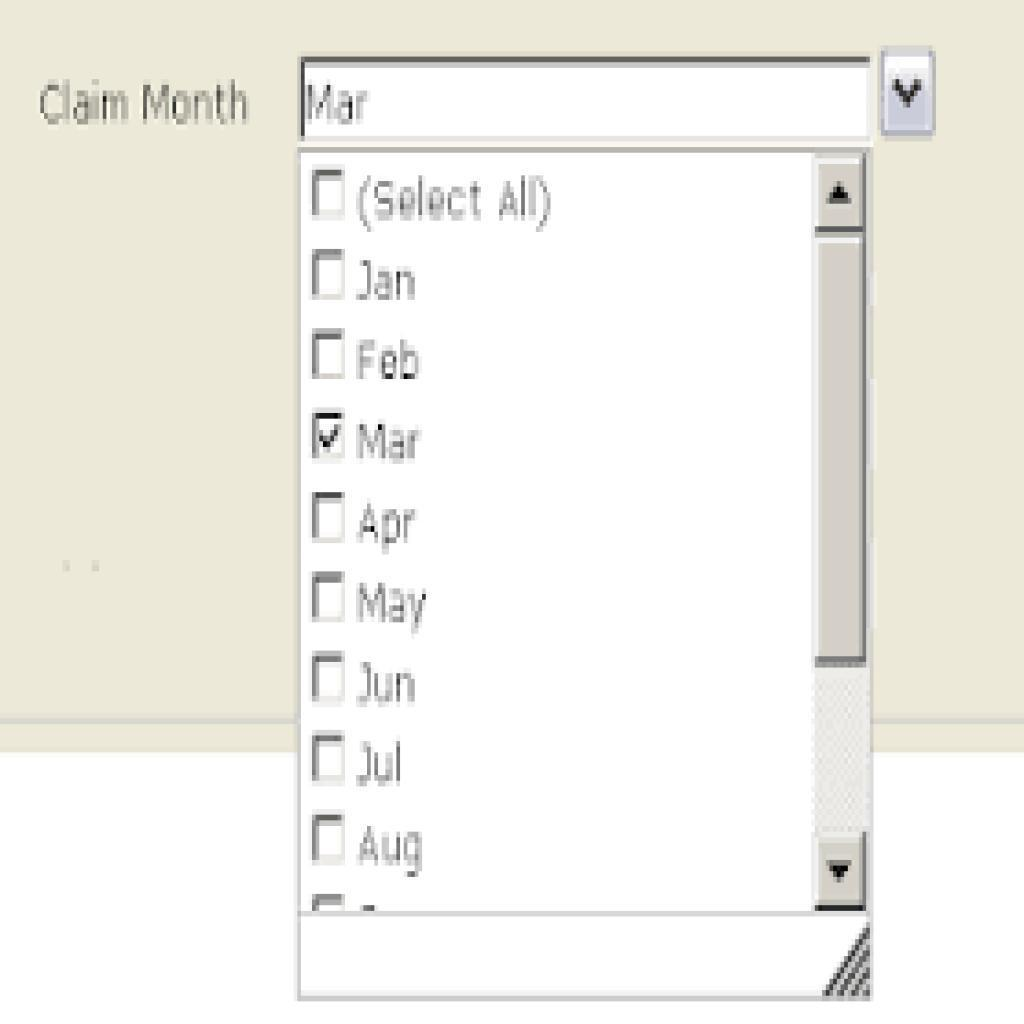checkbox: (310, 246, 352, 304), (310, 730, 351, 786), (311, 812, 351, 869), (310, 652, 351, 707), (311, 169, 351, 225), (310, 411, 350, 463), (310, 329, 349, 382), (312, 573, 351, 624), (311, 491, 348, 544)
dropdown: (299, 52, 940, 141)
